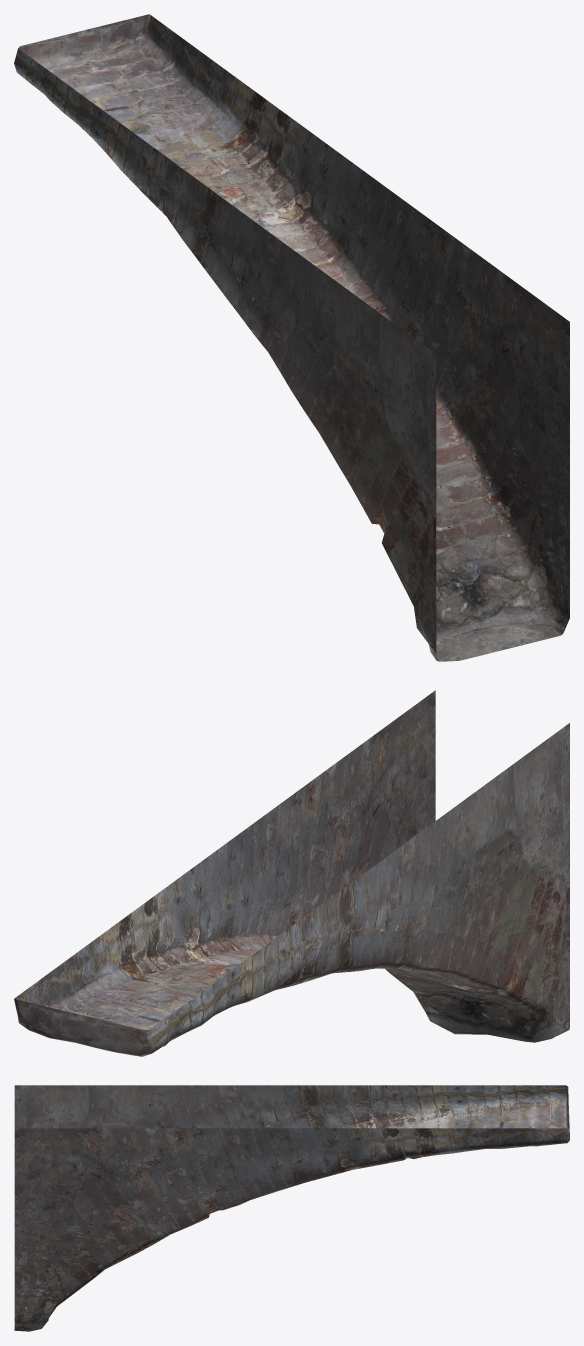
Rendered from SM_CryptArch_01_02.fbx.
3 renders of one model, top to bottom at view 1: azimuth 30°, elevation 25°; view 2: azimuth 150°, elevation 25°; view 3: azimuth 270°, elevation 25°, orthographic. The views are drawn at different scales.
Visible parts, largest first — view 1: sm_CryptArch_01_02_LOD0; view 2: sm_CryptArch_01_02_LOD0; view 3: sm_CryptArch_01_02_LOD0.
Boxes of the visible parts, left/top/right/bottom form: sm_CryptArch_01_02_LOD0: left=14, top=14, right=569, bottom=661; sm_CryptArch_01_02_LOD0: left=14, top=690, right=569, bottom=1056; sm_CryptArch_01_02_LOD0: left=14, top=1085, right=569, bottom=1331.
Size of the model in its own units: 308 by 60.17 by 127.
